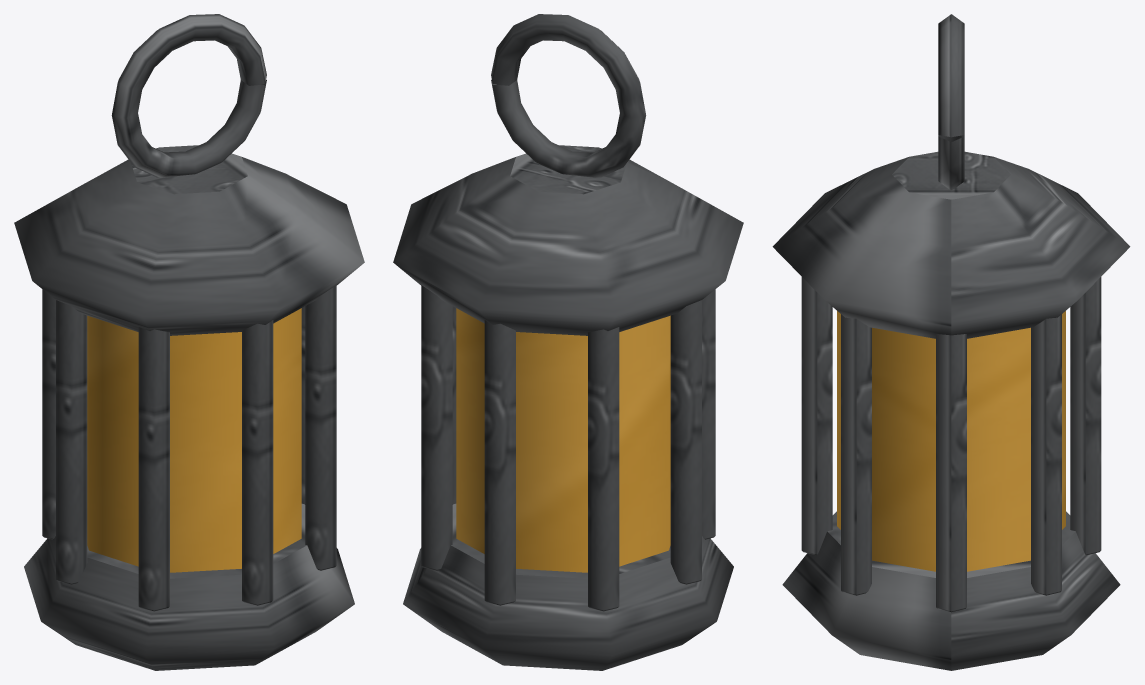
File: SM_Lantern.glb
3 renders of one model, left to right at view 1: azimuth 30°, elevation 25°; view 2: azimuth 150°, elevation 25°; view 3: azimuth 270°, elevation 25°, orthographic.
Parts seen in each view (by area): view 1: SM_Lantern; view 2: SM_Lantern; view 3: SM_Lantern.
Part boxes in pixels (<box>): SM_Lantern: <box>14,14,364,670</box>; SM_Lantern: <box>393,14,743,670</box>; SM_Lantern: <box>772,14,1130,670</box>.
Size of the model in its own units: 0.36 by 0.659 by 0.36.
1 material, 1 textured.
